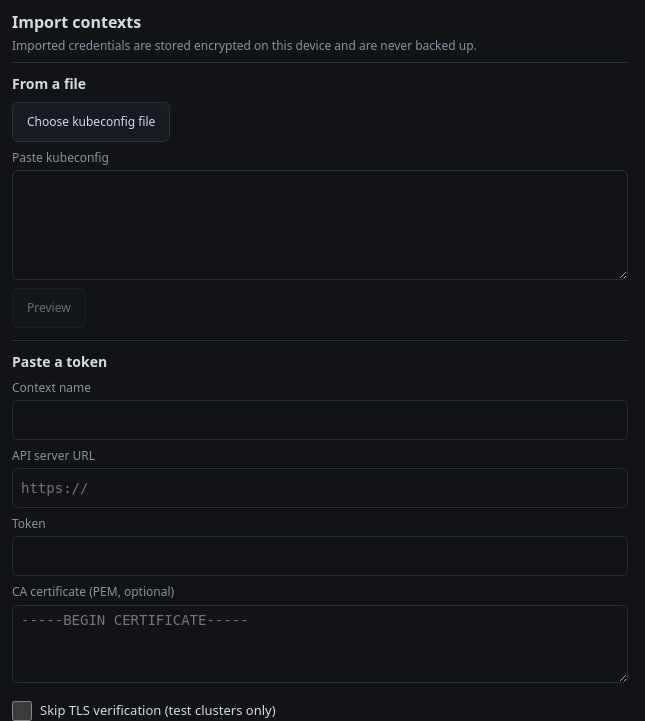
it: ImportView › previews a picked file, pre-selects importable new contexts and commits them
Click the button "Choose kubeconfig file". click: click(91, 122)
box: [12, 102, 170, 142]
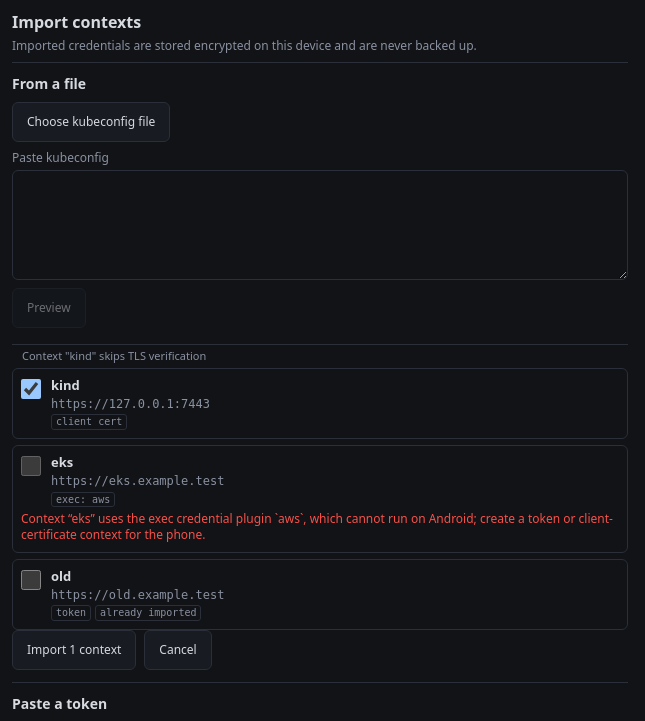
Result: the checkbox labelled "kind https://127.0.0.1:7443 client cert" is checked at [21, 379, 41, 399]
Result: the checkbox labelled "old https://old.example.test token already imported" is not checked
Result: the text "already imported" is shown at [95, 605, 201, 621]
# Selecting an existing context offers "Replace existing".
Click the checkbox labelled "old https://old.example.test token already imported". click: click(31, 580)
box: [21, 570, 41, 590]
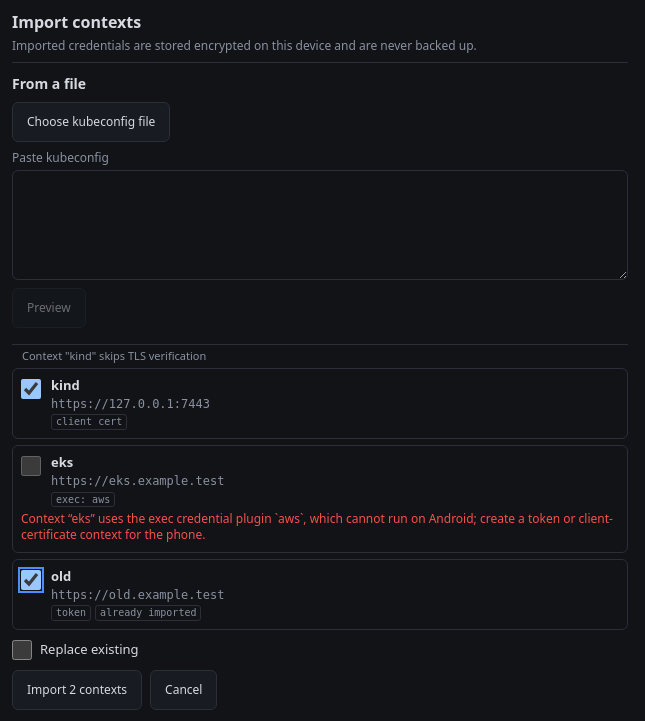
Click the checkbox labelled "Replace existing". click: click(22, 650)
box: [12, 640, 32, 660]
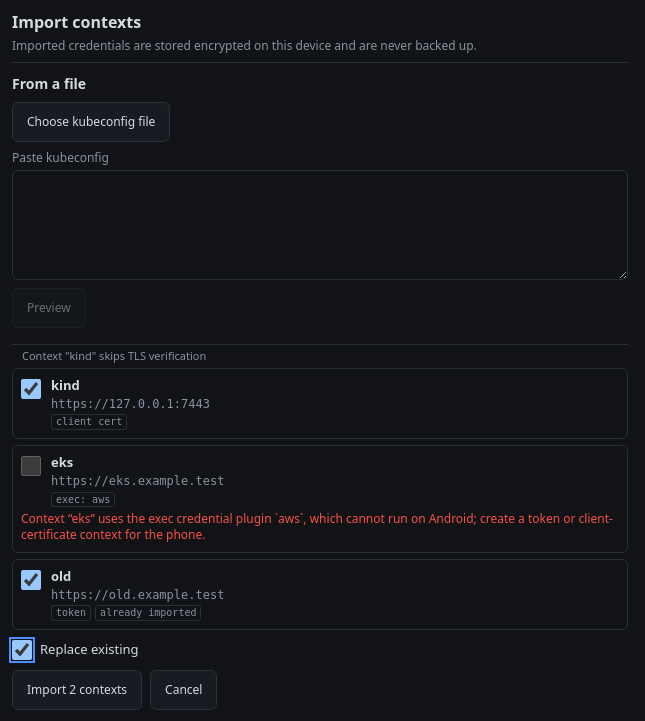
Click the button "Import 2 contexts". click: click(77, 690)
box: [12, 670, 142, 710]
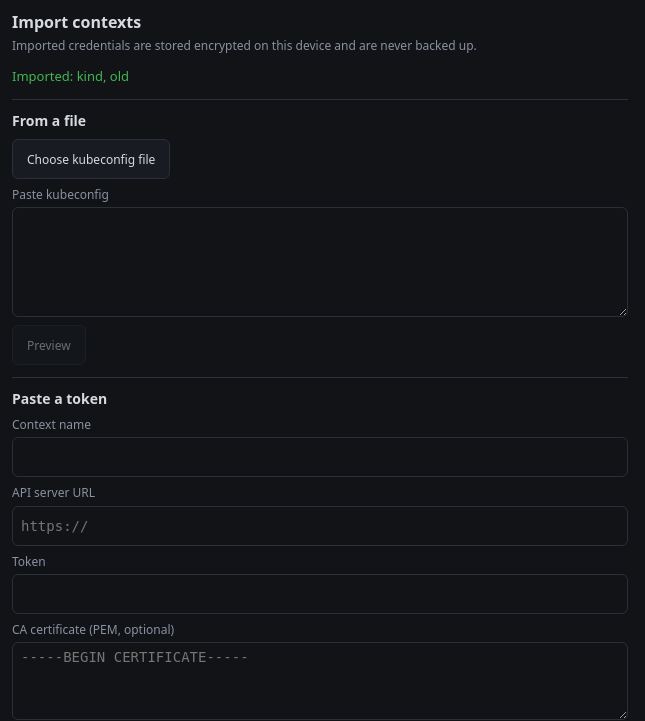
Result: the text "Imported: kind, old" is shown at [12, 67, 129, 85]
